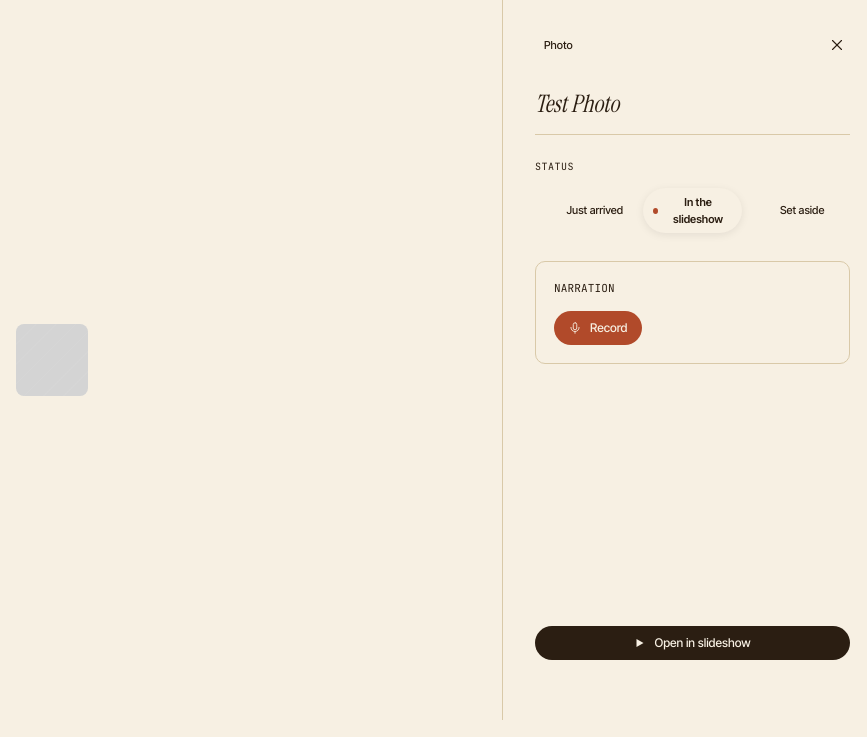
EntryEditor › Narration button states during async operations › shows disabled Uploading… button during upload
This screenshot has width=867, height=737.
Click the button "Record".
click(598, 328)  # box 554,310 -> 642,344
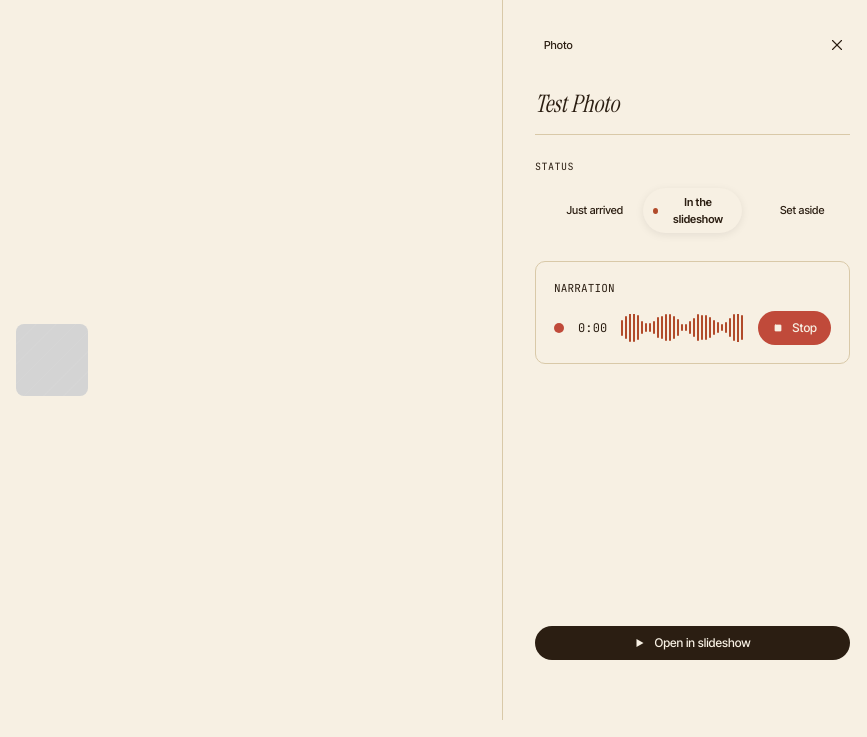
Click the button "Stop".
click(795, 328)  # box 758,310 -> 831,344
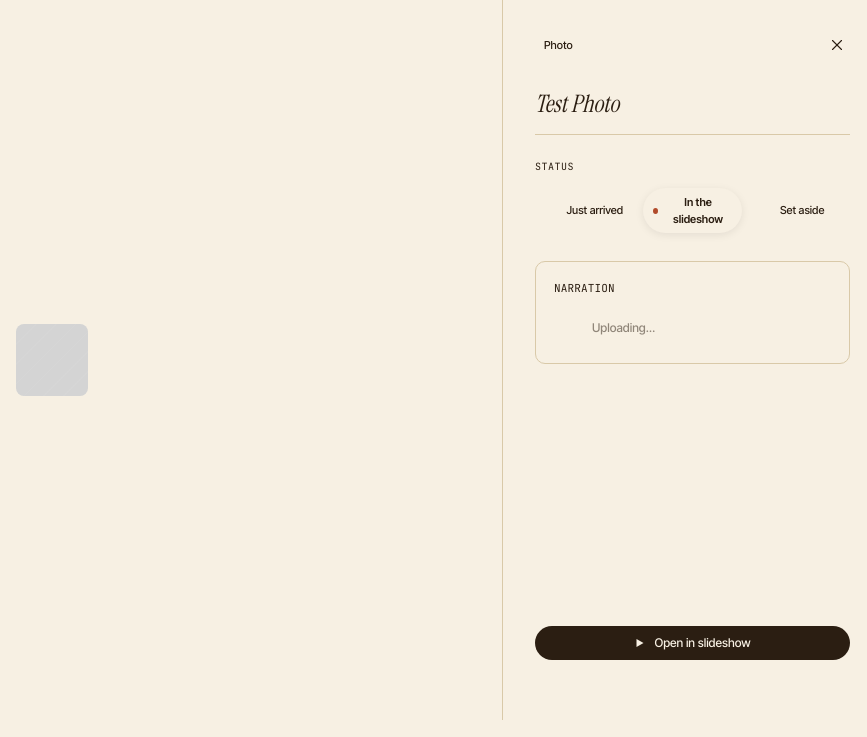
Check: the button "Uploading…" is disabled, box 578,310 -> 669,344
